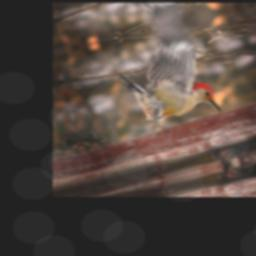Woodpecker: (106, 20, 223, 134)
